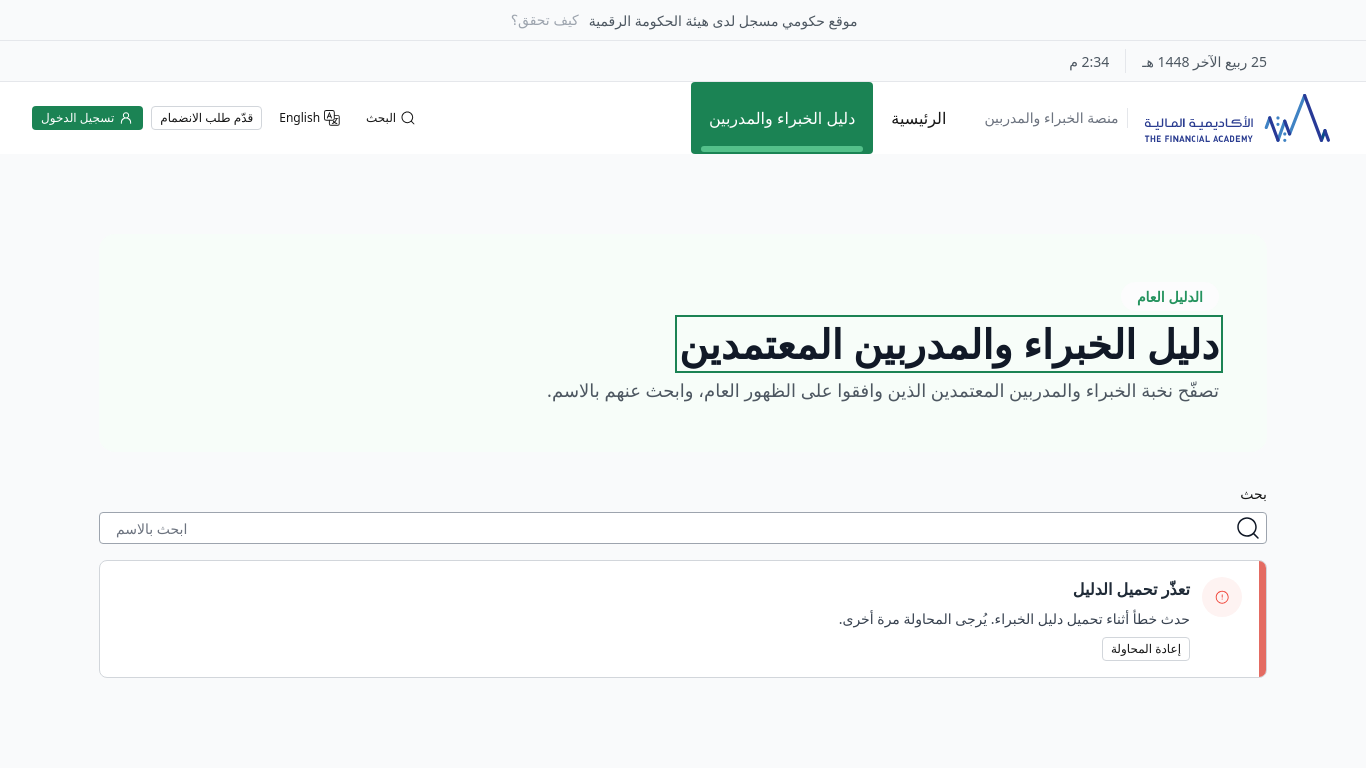
Test: EH-PUB-02 — Trainer Directory › shows an error state with retry on load failure, and recovers
Expected: the text "تعذّر تحميل الدليل" is shown, [1073,578,1190,600]
What coordinates should you click on to do the following:
click the button "إعادة المحاولة"
I would click on:
 (1146, 649)
Its box is [1102,637,1190,661].
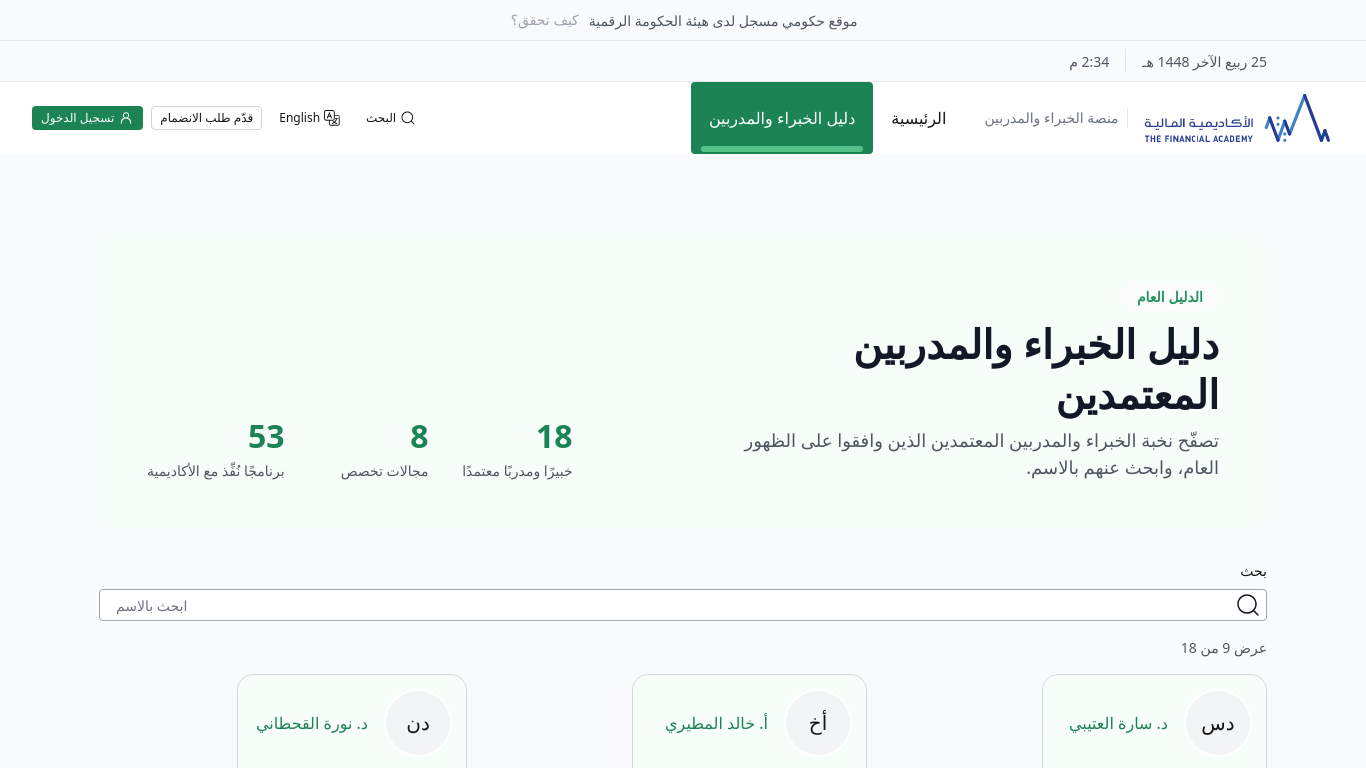
Now the text "د. سارة العتيبي" is shown, box [1069,711,1168,735]
